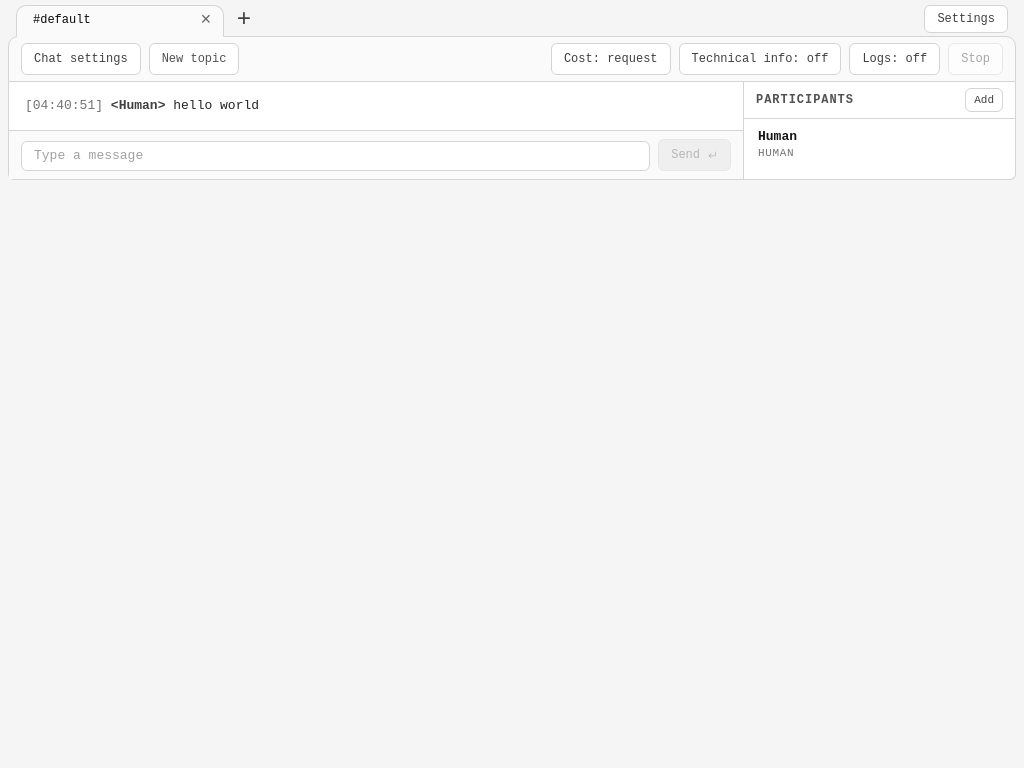
Test: MultiAgentChat request inspection › opens inspector for a human message showing Participant / Input / Output / Used In tabs
Click the button with class "chat-line-time-active" at [64, 106], box [25,98,103,113]
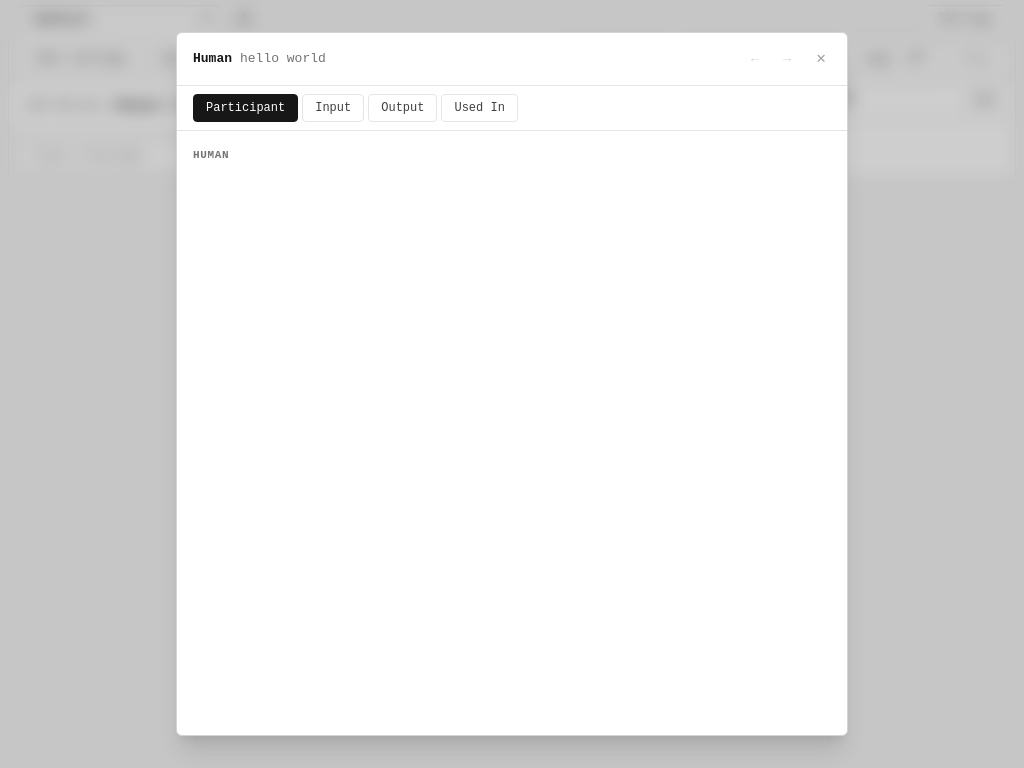
Expected: the text "Input" is shown, [302,94,364,122]
Expected: the text "Output" is shown, [368,94,437,122]
Expected: the text "Used In" is shown, [442,94,518,122]
